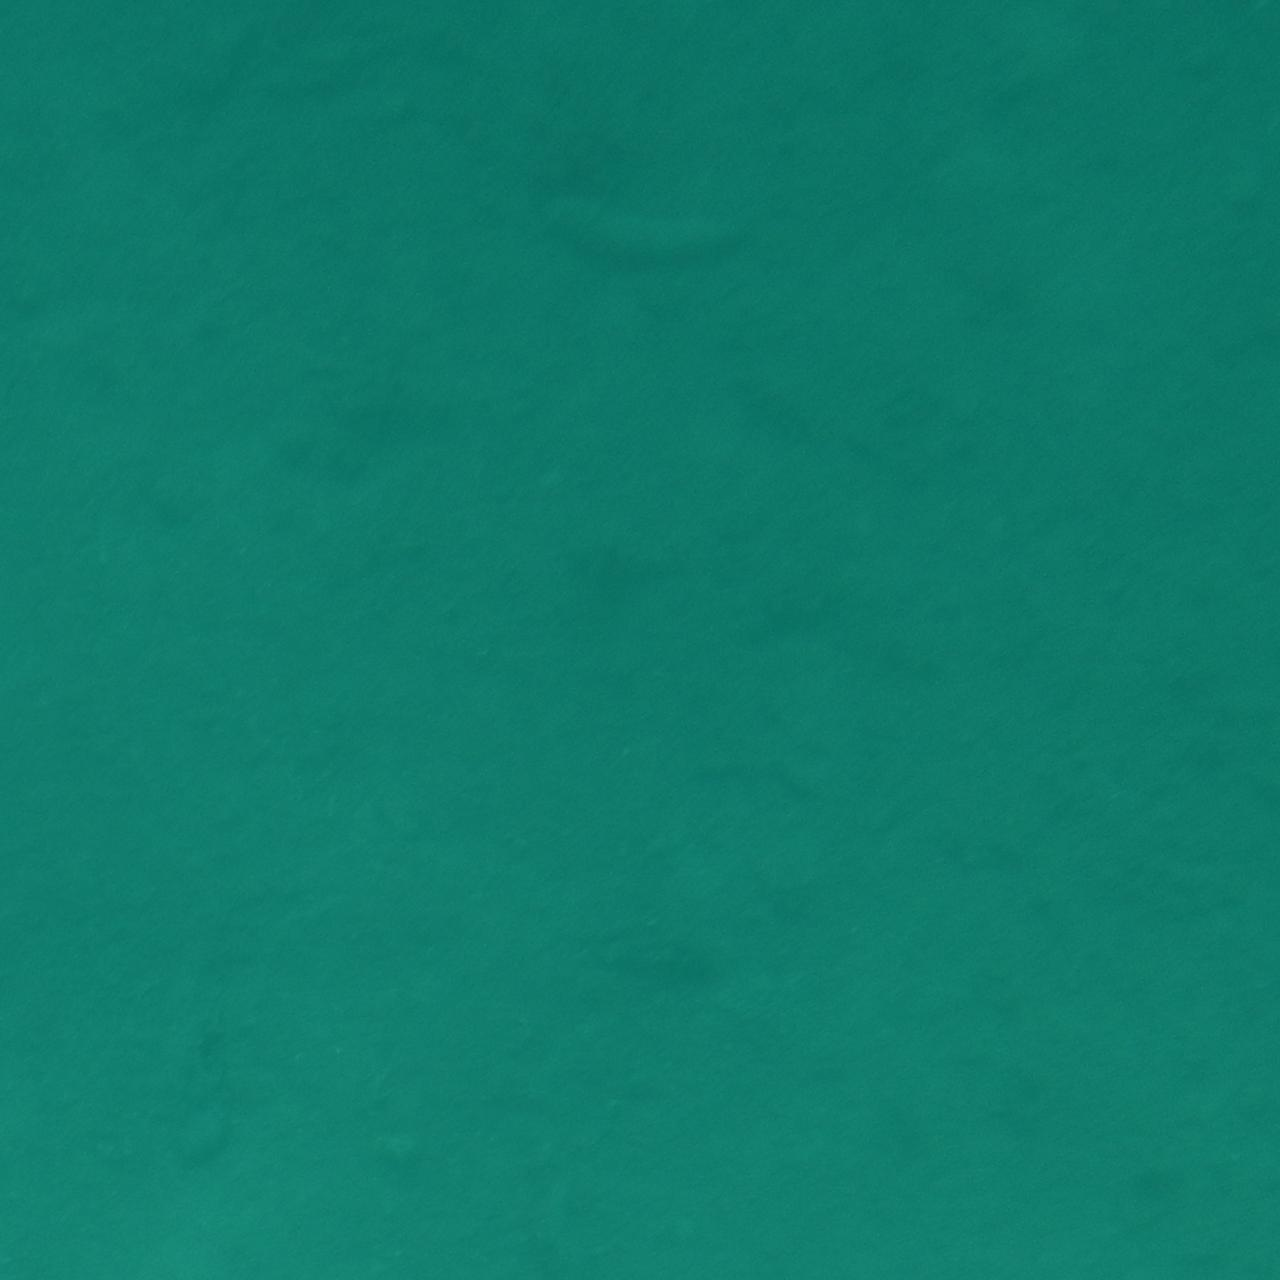Holothuria tubulosa: (506, 150, 774, 314)
